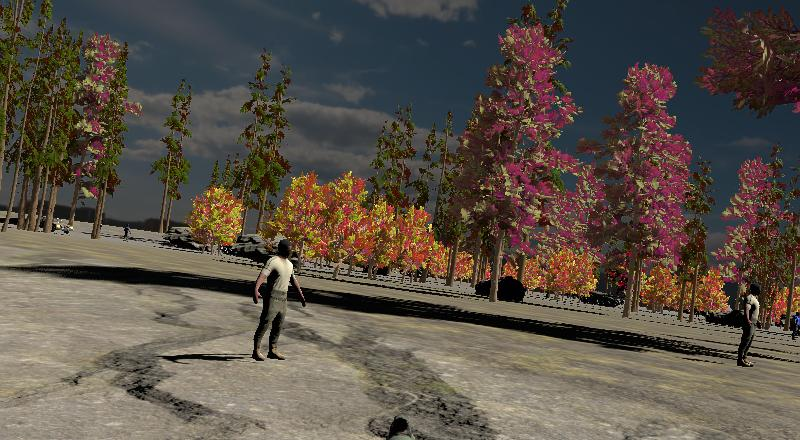Human: (249, 233, 310, 365)
